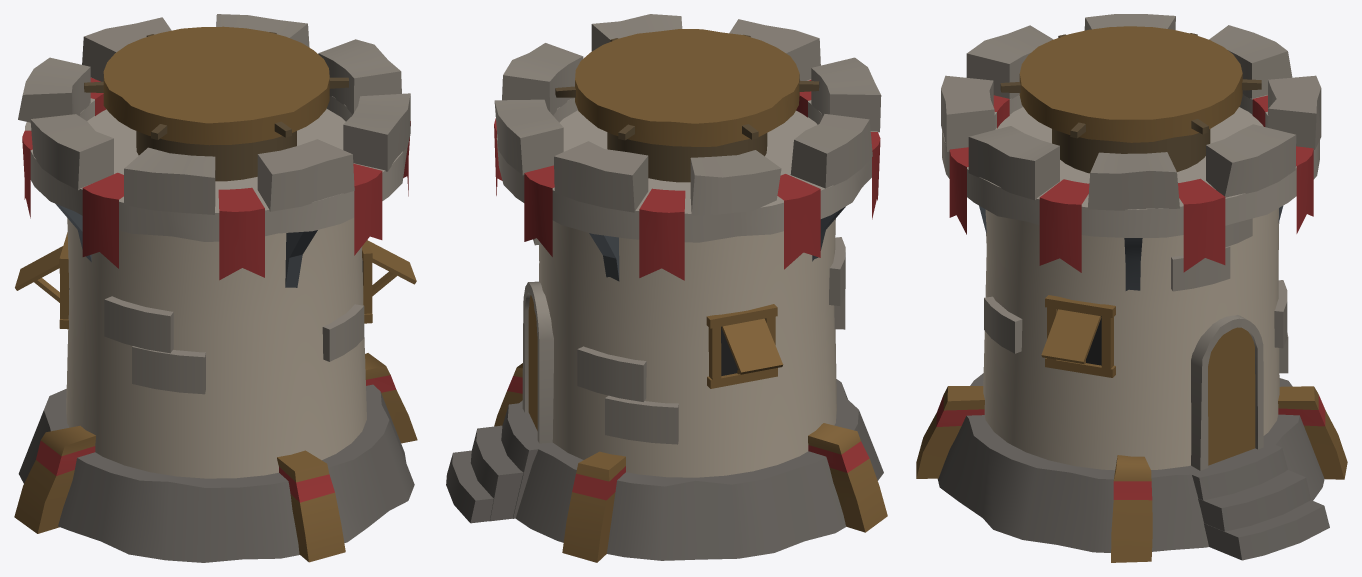
The model's file is Tower_lvl1.fbx.
3 renders of one model, left to right at view 1: azimuth 30°, elevation 25°; view 2: azimuth 150°, elevation 25°; view 3: azimuth 270°, elevation 25°, orthographic.
Visible parts, largest first — view 1: Cylinder, Cube, Cylinder.001, Cylinder.009, Cube.008, Cylinder.002, Cube.011, Cylinder.004, Cube.005, Cube.006, Cube.057, Cube.056 (+3 smaller); view 2: Cylinder, Cube, Cylinder.001, Cylinder.009, Cylinder.002, Cube.011, Cube.008, Cylinder.005, Cube.057, Cylinder.008, Cylinder.004, Cube.002 (+5 smaller); view 3: Cylinder, Cube, Cylinder.001, Cylinder.009, Cylinder.002, Cube.008, Cube.011, Cylinder.005, Cylinder.017, Cube.056, Cylinder.008, Cylinder.004 (+6 smaller).
Part boxes in pixels (x1=…): Cylinder: x1=66, y1=218, x2=366, y2=478; Cube: x1=18, y1=14, x2=410, y2=214; Cylinder.001: x1=18, y1=384, x2=414, y2=562; Cylinder.009: x1=103, y1=26, x2=329, y2=145; Cube.008: x1=14, y1=353, x2=417, y2=562; Cylinder.002: x1=25, y1=77, x2=407, y2=241; Cube.011: x1=22, y1=77, x2=410, y2=280; Cylinder.004: x1=136, y1=131, x2=296, y2=181; Cube.005: x1=132, y1=346, x2=205, y2=394; Cube.006: x1=104, y1=296, x2=173, y2=353; Cube.057: x1=15, y1=232, x2=69, y2=329; Cube.056: x1=362, y1=240, x2=416, y2=323; Cylinder: x1=539, y1=218, x2=836, y2=477; Cube: x1=494, y1=14, x2=881, y2=215; Cylinder.001: x1=515, y1=379, x2=883, y2=560; Cylinder.009: x1=575, y1=29, x2=799, y2=146; Cylinder.002: x1=496, y1=79, x2=877, y2=242; Cube.011: x1=494, y1=80, x2=880, y2=280; Cube.008: x1=494, y1=363, x2=887, y2=562; Cylinder.005: x1=446, y1=403, x2=539, y2=523; Cube.057: x1=706, y1=304, x2=783, y2=388; Cylinder.008: x1=522, y1=281, x2=553, y2=443; Cylinder.004: x1=607, y1=132, x2=767, y2=182; Cube.002: x1=605, y1=395, x2=678, y2=444; Cylinder: x1=983, y1=208, x2=1279, y2=470; Cube: x1=941, y1=14, x2=1321, y2=210; Cylinder.001: x1=937, y1=373, x2=1324, y2=552; Cylinder.009: x1=1019, y1=26, x2=1242, y2=142; Cylinder.002: x1=942, y1=94, x2=1319, y2=237; Cube.008: x1=916, y1=386, x2=1347, y2=562; Cube.011: x1=949, y1=95, x2=1313, y2=272; Cylinder.005: x1=1175, y1=440, x2=1329, y2=560; Cylinder.017: x1=1208, y1=327, x2=1255, y2=465; Cube.056: x1=1041, y1=295, x2=1115, y2=377; Cylinder.008: x1=1191, y1=315, x2=1263, y2=470; Cylinder.004: x1=1052, y1=129, x2=1210, y2=173.
Bounding box in the file's own units: 291 × 296 × 290.
